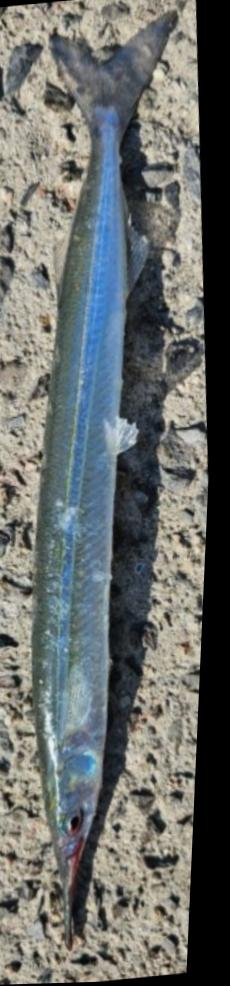fish: (38, 11, 177, 953)
